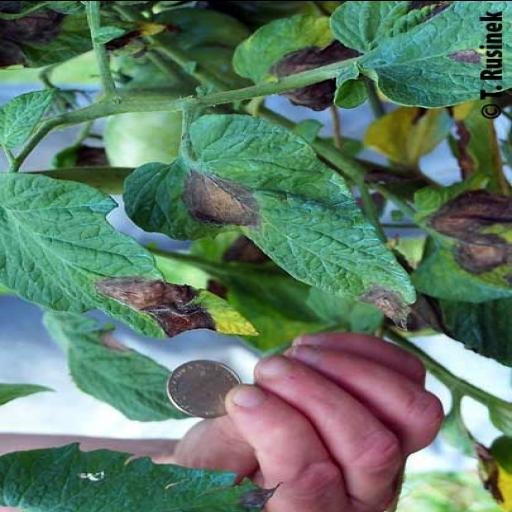Late Blight: (119, 111, 425, 335), (4, 170, 263, 338), (326, 0, 512, 110)
